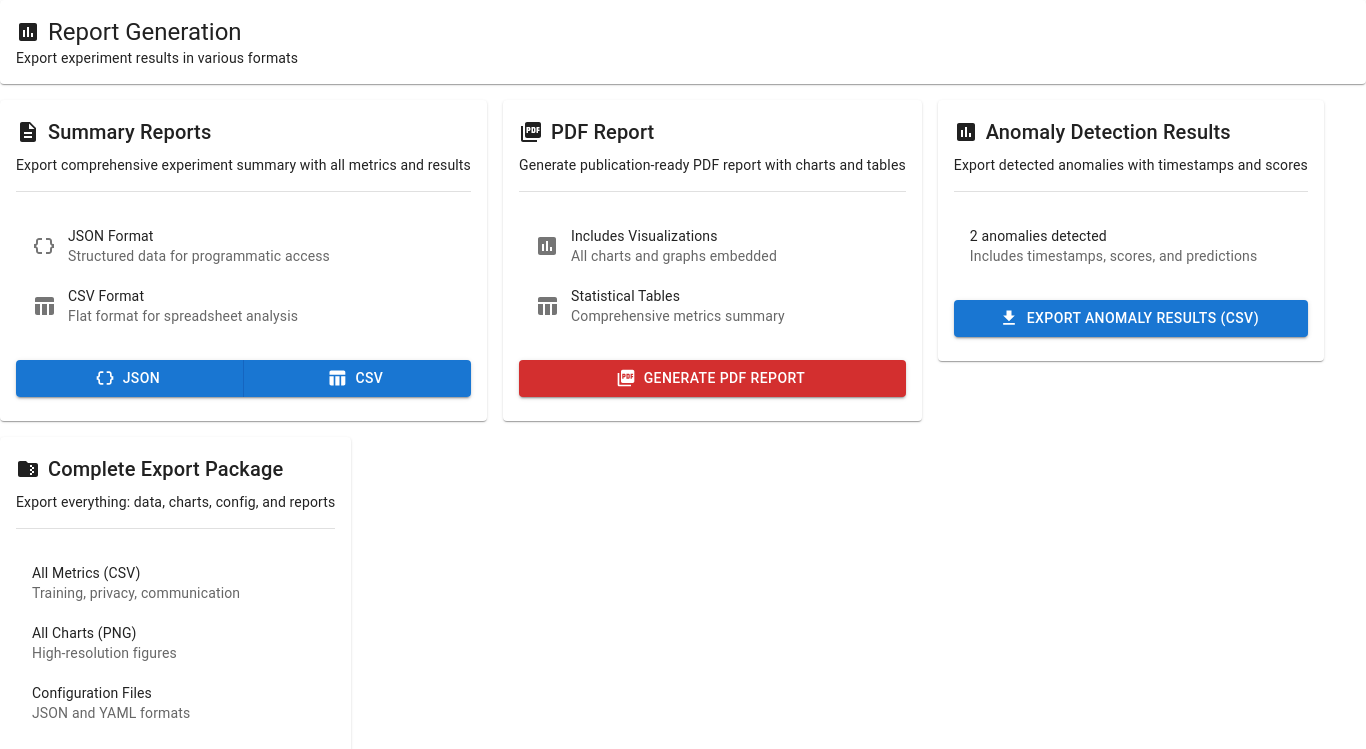
Test: ReportGeneration › Summary Report Export › should export summary as CSV
// Get the CSV button specifically from the Summary Reports section
Click the button with aria-label "Export summary as CSV" at (357, 378), box [244,360,471,397]
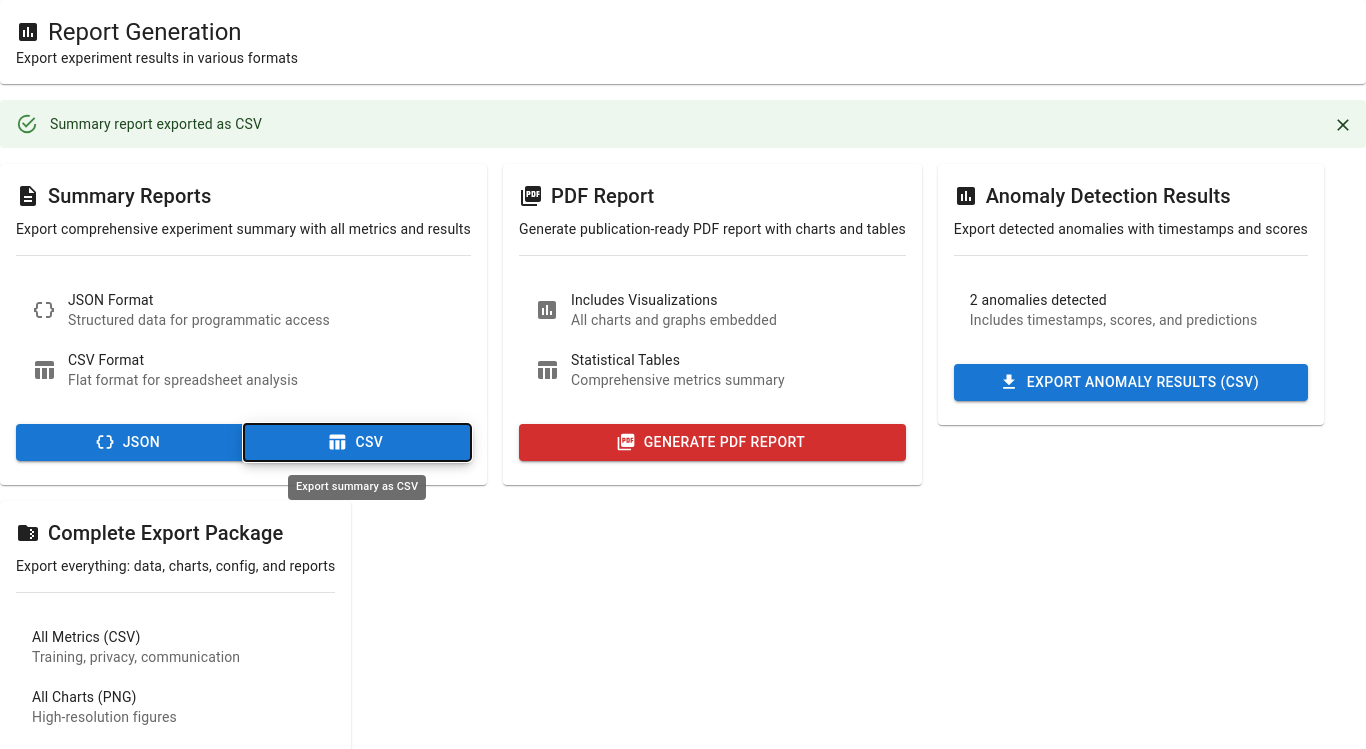
Expected: the text "Summary report exported as CSV" is shown, [50,116,262,132]
